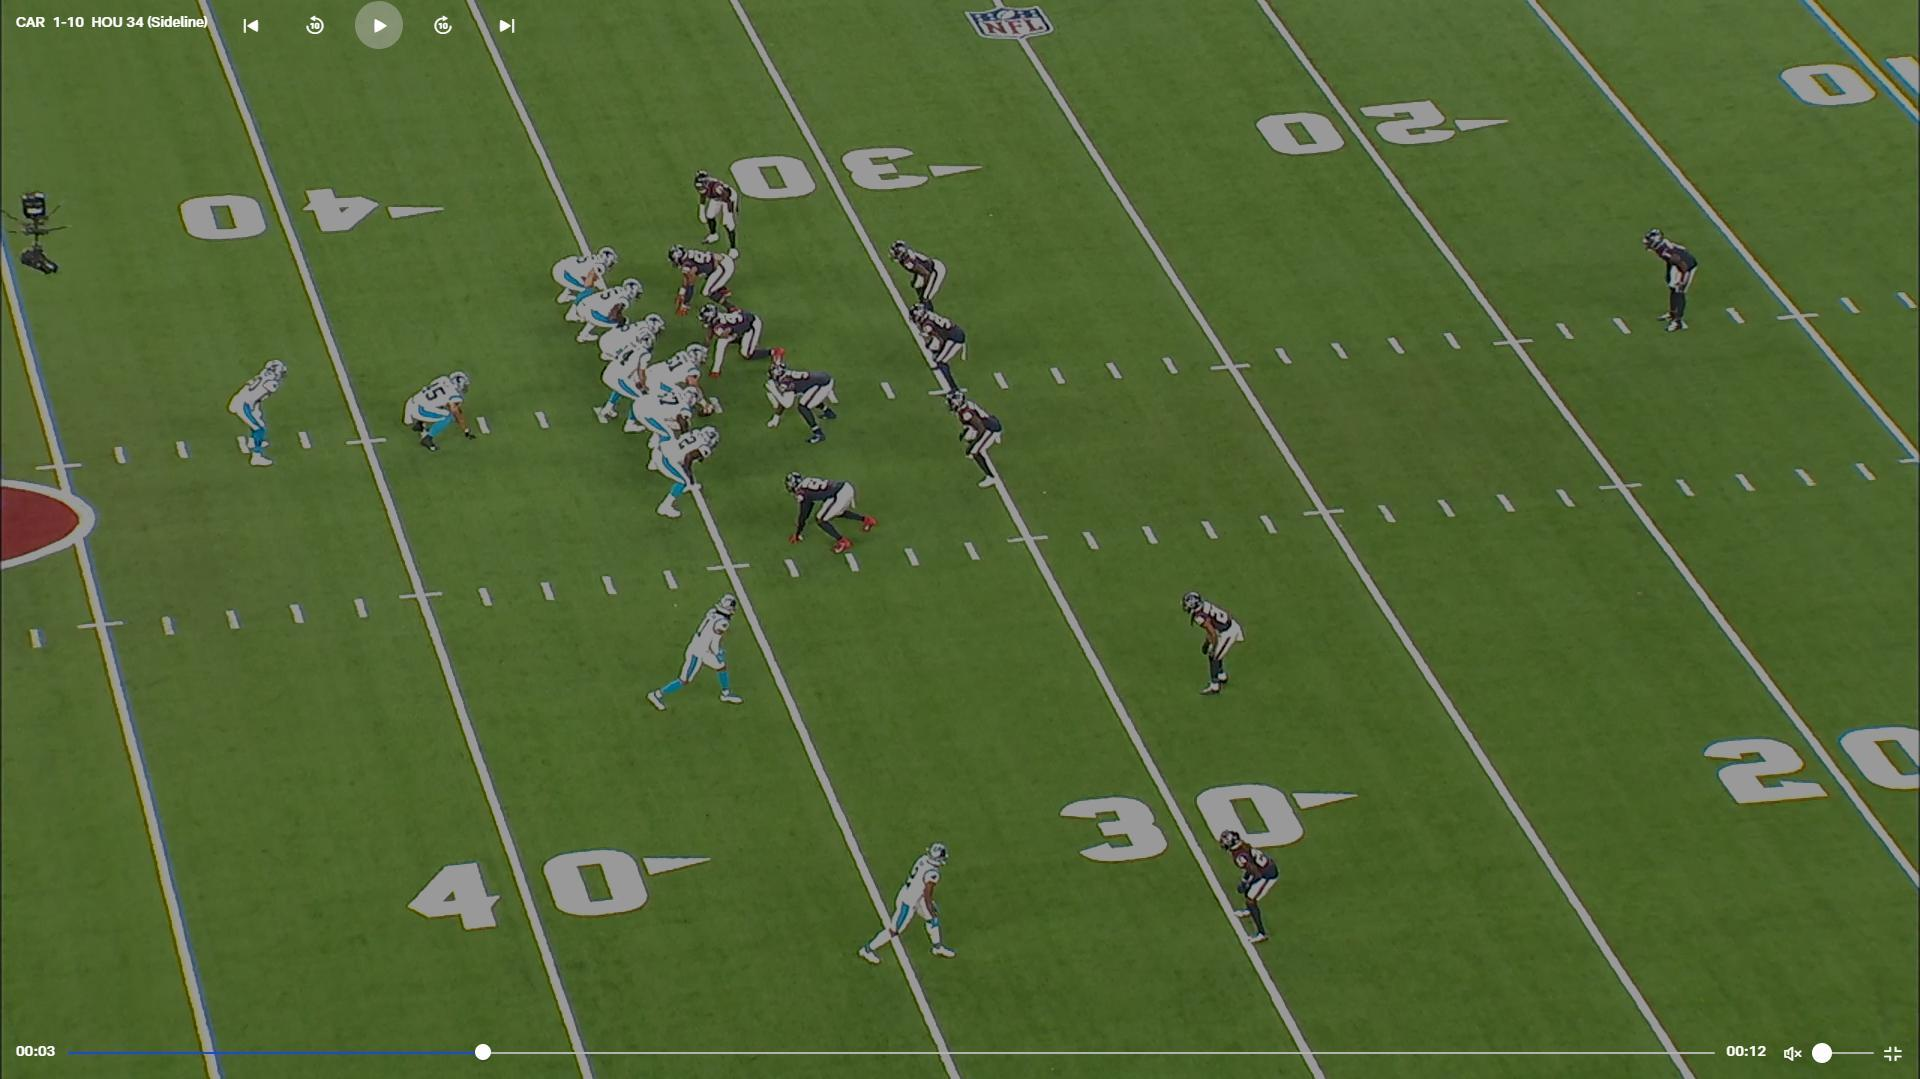defense: (1217, 827, 1287, 952), (784, 471, 885, 556), (1179, 585, 1246, 701), (698, 306, 789, 378), (909, 303, 972, 406), (768, 365, 846, 447), (1644, 231, 1703, 338), (945, 386, 1004, 490), (886, 238, 946, 326), (665, 244, 737, 317), (694, 169, 748, 257)
oline: (656, 426, 727, 524), (633, 384, 707, 475), (575, 276, 648, 348), (599, 310, 669, 374), (643, 342, 712, 401)
qb: (598, 336, 659, 433)
skill: (853, 835, 965, 975), (644, 591, 749, 717), (232, 358, 295, 474), (404, 370, 476, 453), (548, 249, 619, 324)
